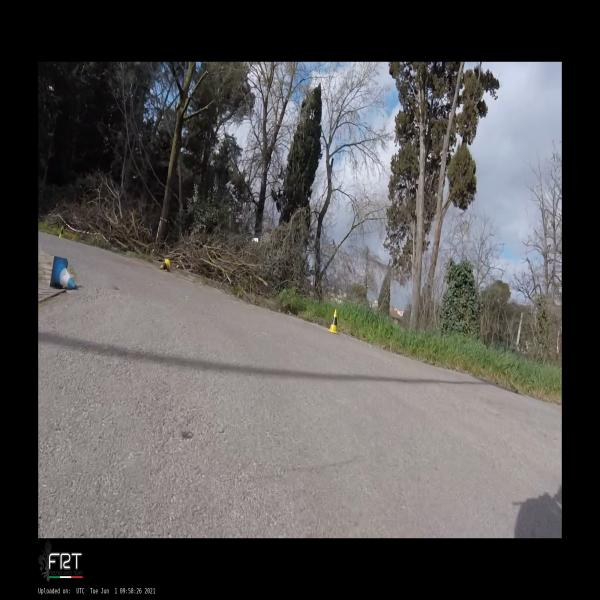blue_cone: (50, 256, 76, 289)
yellow_cone: (328, 309, 340, 334), (159, 258, 170, 272), (59, 226, 64, 238)
